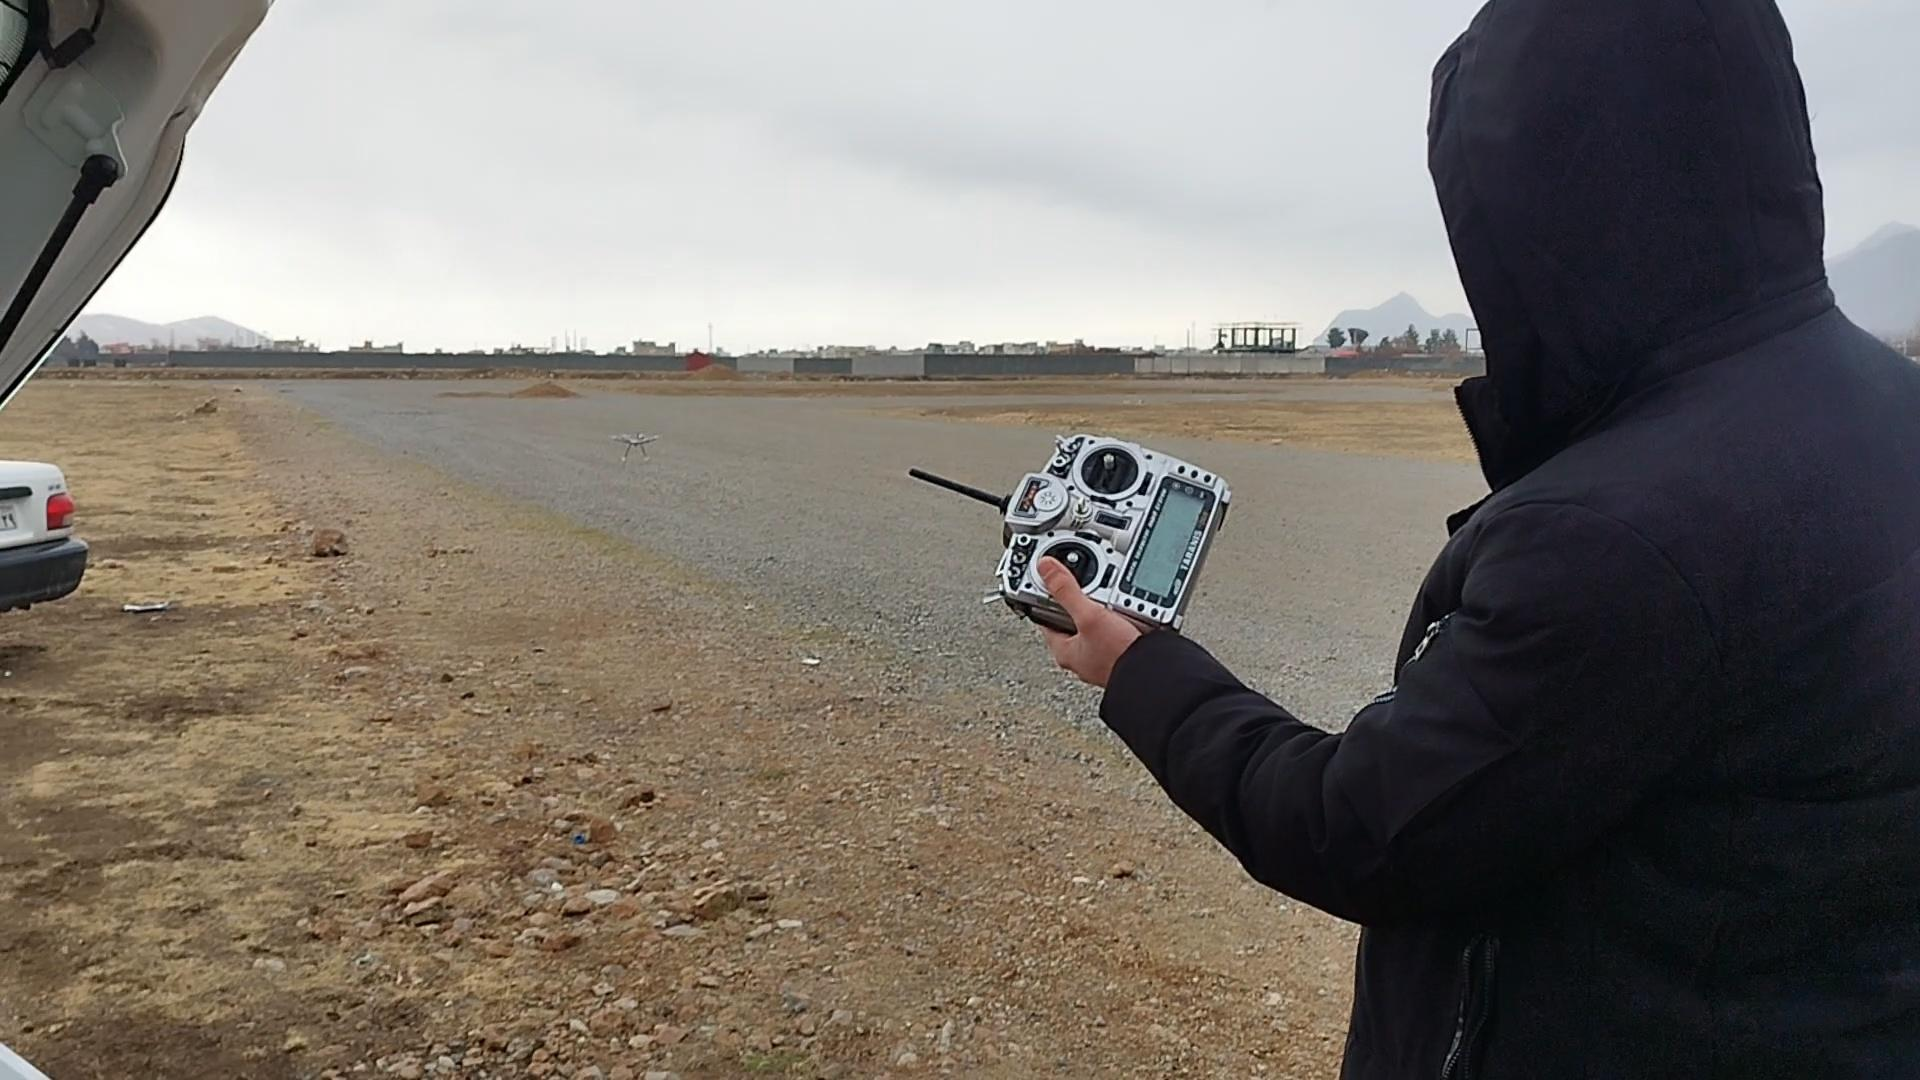drone: (607, 427, 665, 465)
